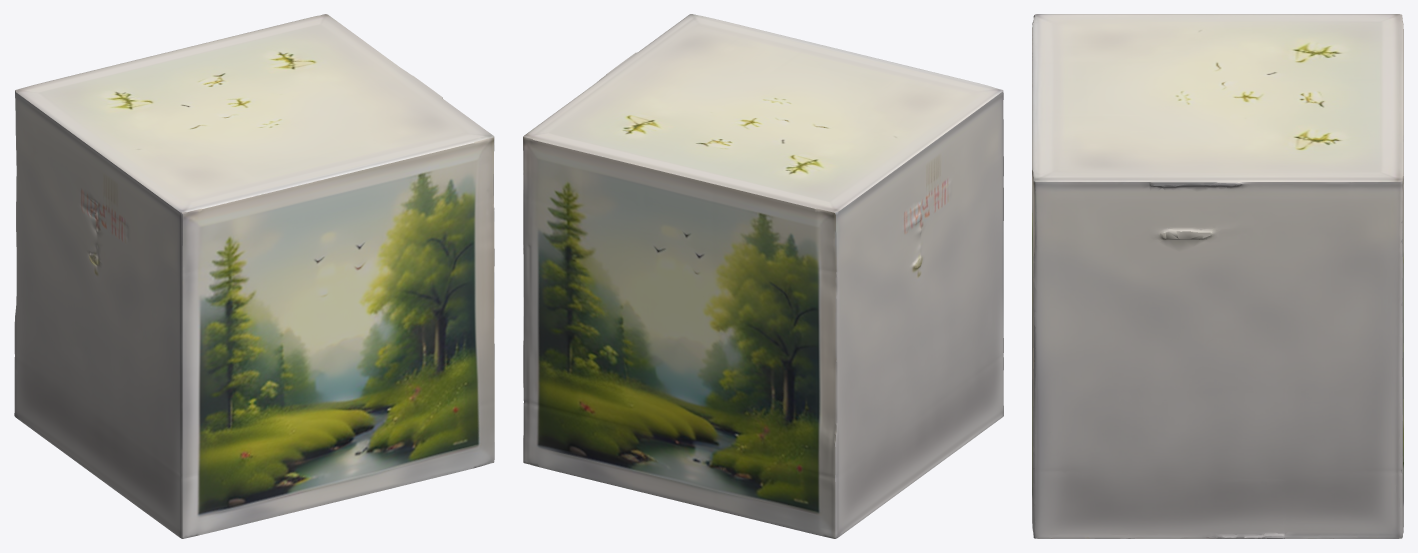
File: painting.fbx
3 views of the same model, side by side, from view 1: azimuth 30°, elevation 25°; view 2: azimuth 150°, elevation 25°; view 3: azimuth 270°, elevation 25° (orthographic). The views are drawn at different scales.
Parts seen in each view (by area): view 1: tmpz6w352qi.ply; view 2: tmpz6w352qi.ply; view 3: tmpz6w352qi.ply.
Boxes of the visible parts, x1,y1,x2,y2 form: tmpz6w352qi.ply: (14,14,494,538); tmpz6w352qi.ply: (523,14,1003,538); tmpz6w352qi.ply: (1032,14,1403,538).
Size of the model in its own units: 100 by 98.91 by 92.97.
1 material, 1 textured.
